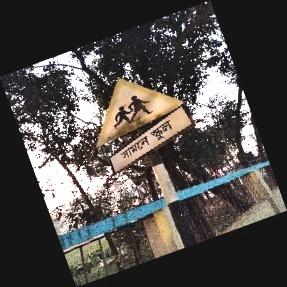School-in-front: (96, 78, 193, 175)
